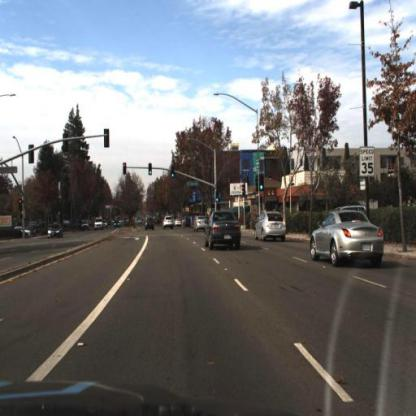car: (311, 210, 392, 267), (203, 208, 244, 251), (254, 211, 286, 242), (46, 221, 67, 247), (192, 211, 207, 236), (47, 223, 65, 241), (92, 214, 107, 235), (160, 213, 176, 230), (142, 215, 156, 234), (214, 187, 223, 207)
trafficLight-Green: (147, 159, 155, 180), (169, 162, 177, 182), (259, 174, 266, 193), (170, 168, 178, 184), (215, 191, 221, 207), (149, 165, 154, 180)
trafficLight-Red: (121, 159, 127, 177)
trafficLight-RedLeft: (122, 156, 129, 179)
